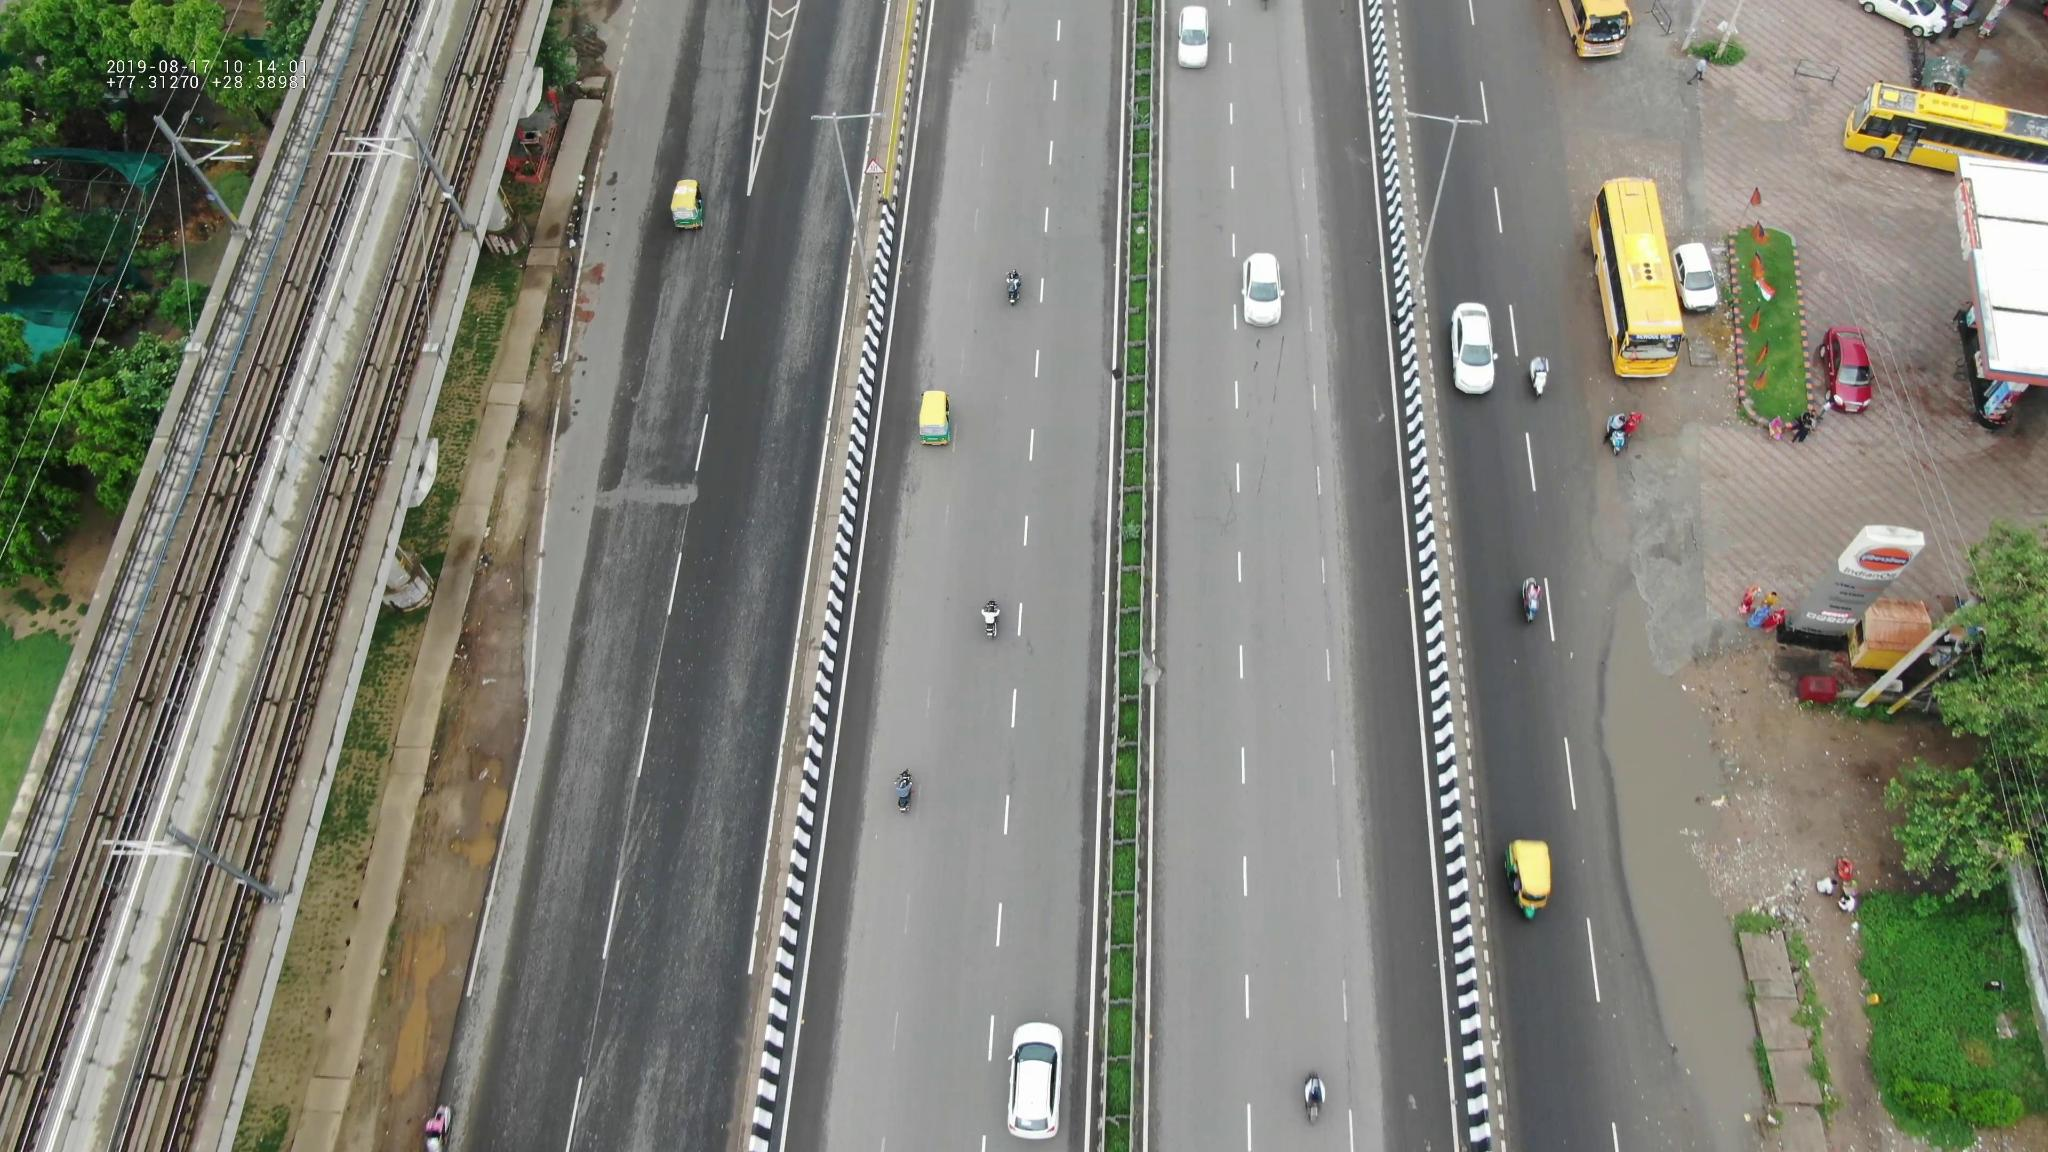Waterlogging: (1588, 591, 1748, 1065)
